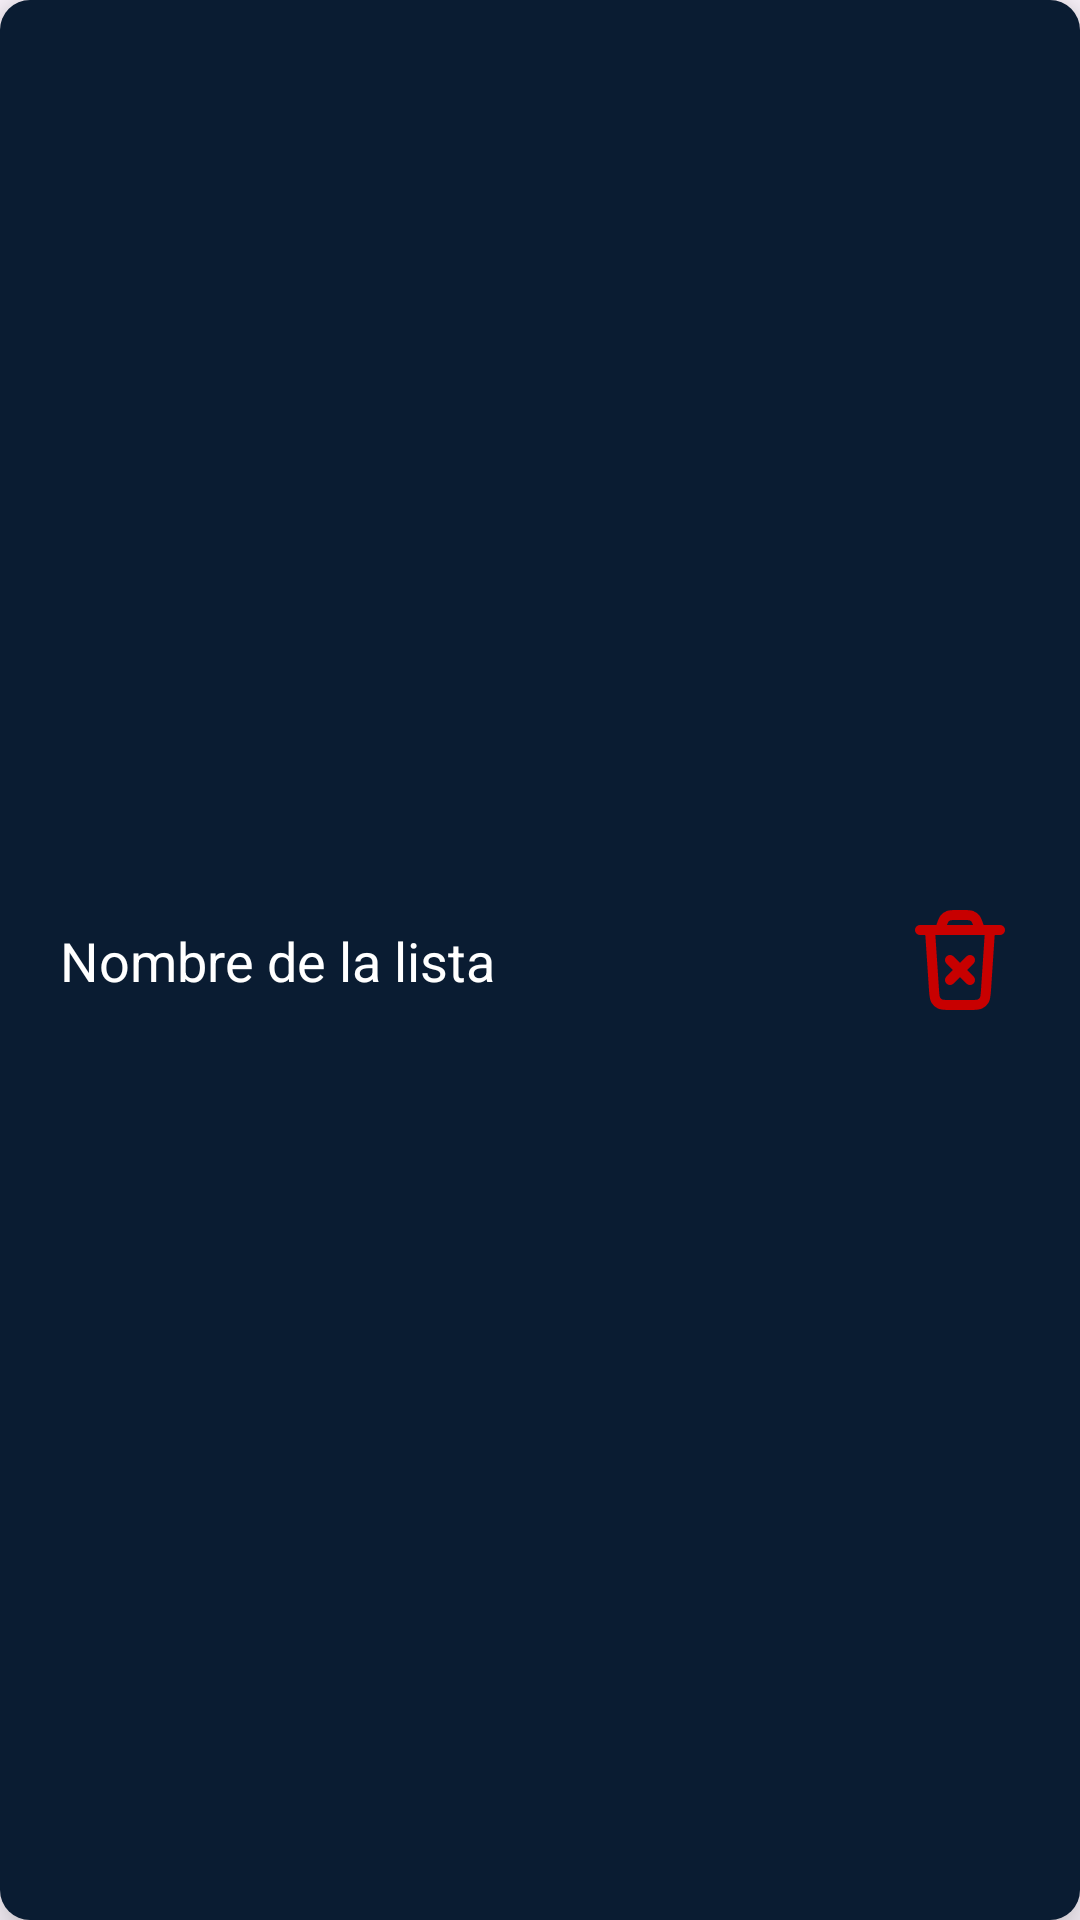

Icons on this 1080w x 1920h Android screen, each with the point to tap as (x=x, y=y):
trash: (x=960, y=960)
